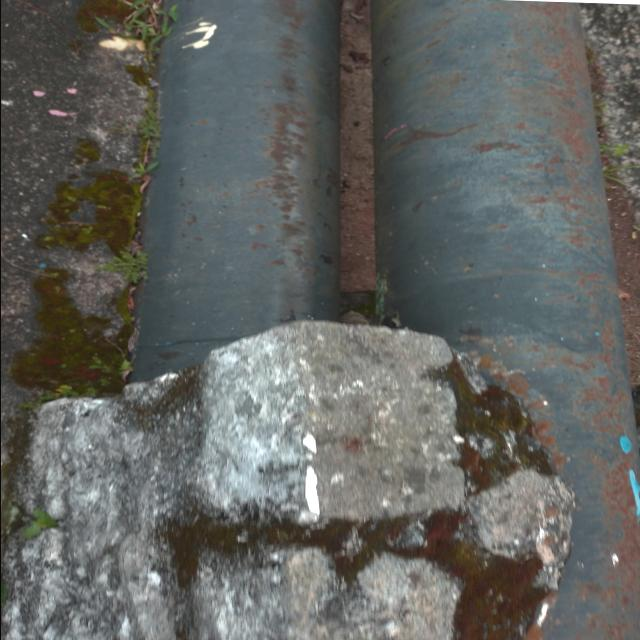gas: (367, 0, 640, 640), (140, 0, 337, 324)
